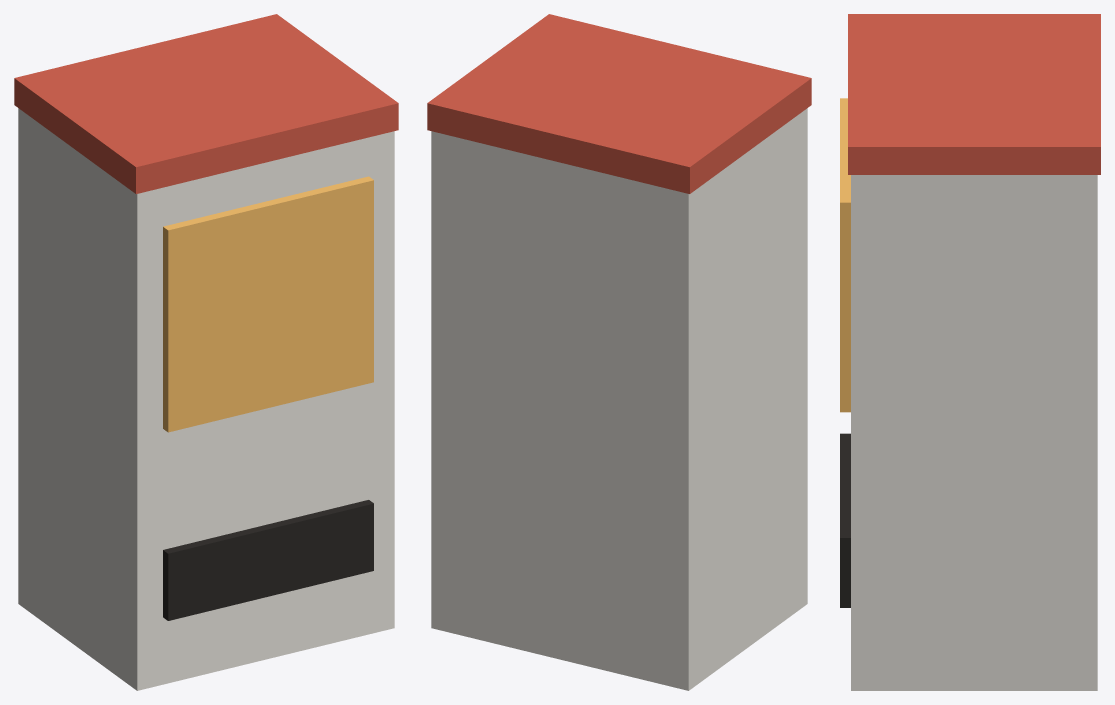
Rendered from prop_vending_machine.fbx.
3 views of the same model, side by side, from view 1: azimuth 30°, elevation 25°; view 2: azimuth 150°, elevation 25°; view 3: azimuth 270°, elevation 25° (orthographic). The views are drawn at different scales.
Visible parts, largest first — view 1: prop_vending_machine; view 2: prop_vending_machine; view 3: prop_vending_machine.
Boxes of the visible parts, x1,y1,x2,y2 form: prop_vending_machine: (14,14,398,690); prop_vending_machine: (427,14,811,690); prop_vending_machine: (840,14,1100,690).
Bounding box in the file's own units: 1.02 × 1.95 × 0.845.
2 materials, 2 textured.
